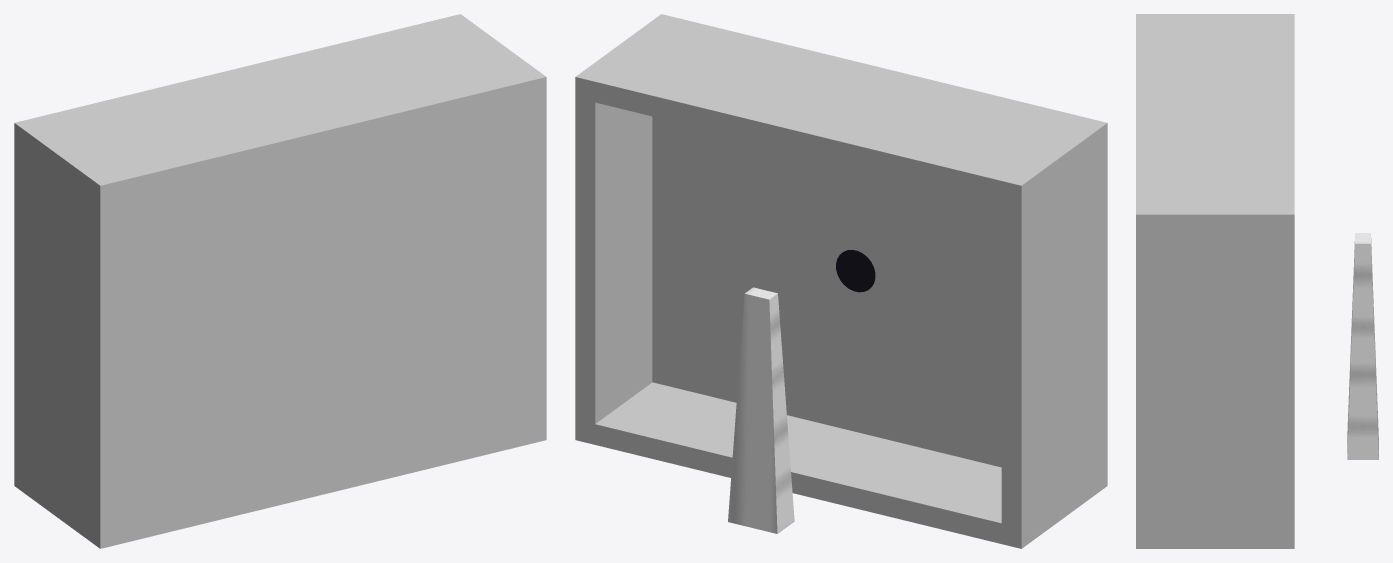
File: PiaBanheiroECelas.dae
3 renders of one model, left to right at view 1: azimuth 30°, elevation 25°; view 2: azimuth 150°, elevation 25°; view 3: azimuth 270°, elevation 25°, orthographic. The views are drawn at different scales.
Visible parts, largest first — view 1: instance_0; view 2: instance_0 (×4); view 3: instance_0 (×2).
Part boxes in pixels (bbox=[...]): instance_0: bbox=[14, 14, 546, 548]; instance_0 (×4): bbox=[575, 14, 1107, 548]; instance_0 (×2): bbox=[1136, 14, 1378, 548].
Bounding box in the file's own units: 17.72 × 9.06 × 13.78.
Materials: 3 (1 with a texture image).
